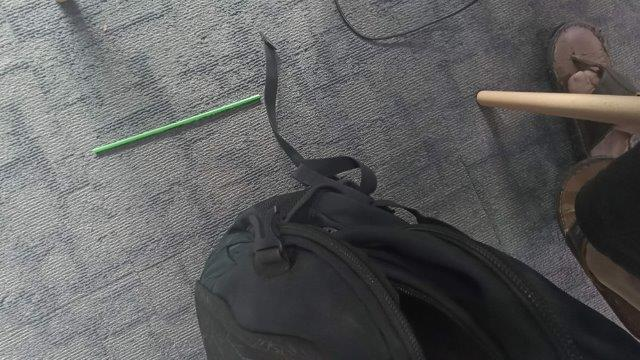sedotan: (94, 95, 260, 152)
